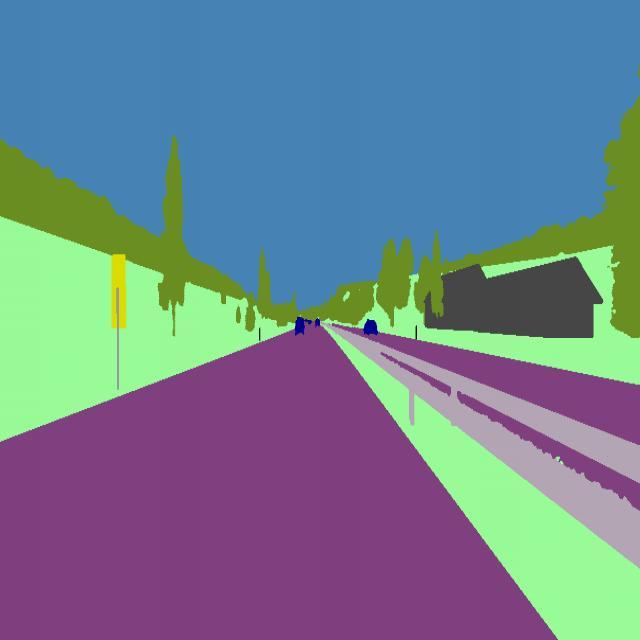safe: (360, 315, 380, 342), (292, 312, 308, 344), (314, 314, 323, 333)
